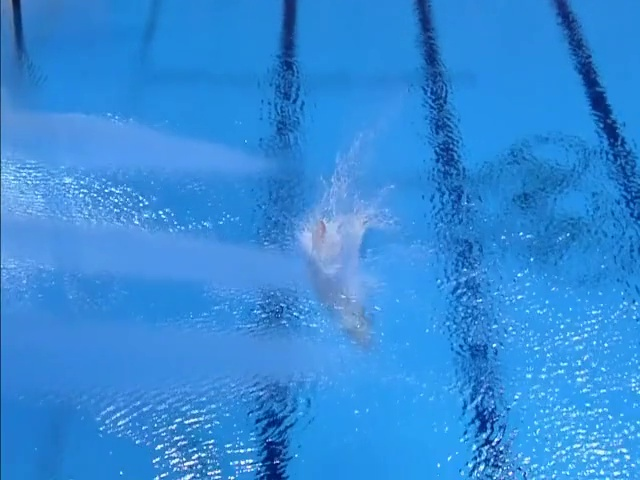splash: (295, 178, 402, 283)
